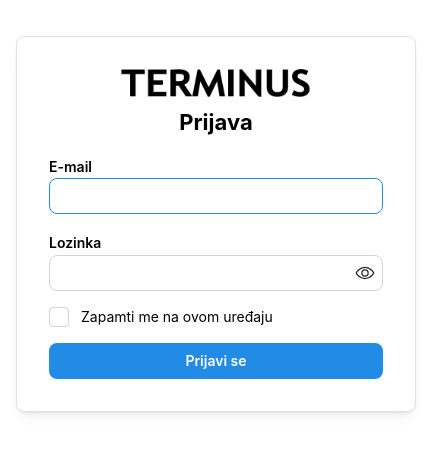
Scenario: LoginPage › validates the form before sending it
This screenshot has width=433, height=452.
Click the button "Prijavi se".
click(216, 361)  # box [49,343,383,379]
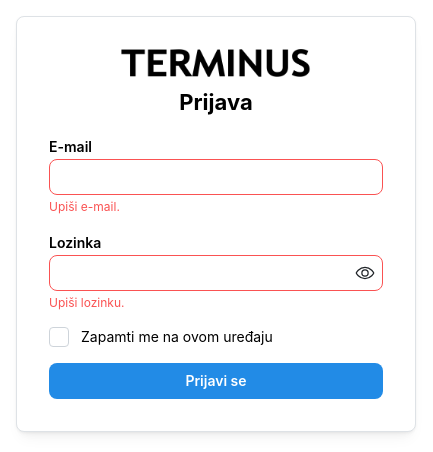
Result: the text "Upiši e-mail." is shown at [49,199,120,214]
Result: the text "Upiši lozinku." is shown at [49,295,124,310]
